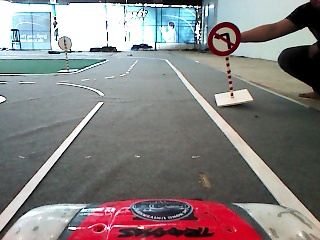ban: (207, 20, 242, 58)
